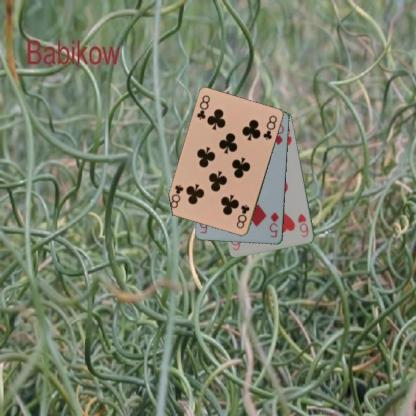5d: (267, 209, 280, 239)
6h: (295, 211, 310, 239)
8c: (194, 93, 212, 121), (234, 202, 251, 230)
